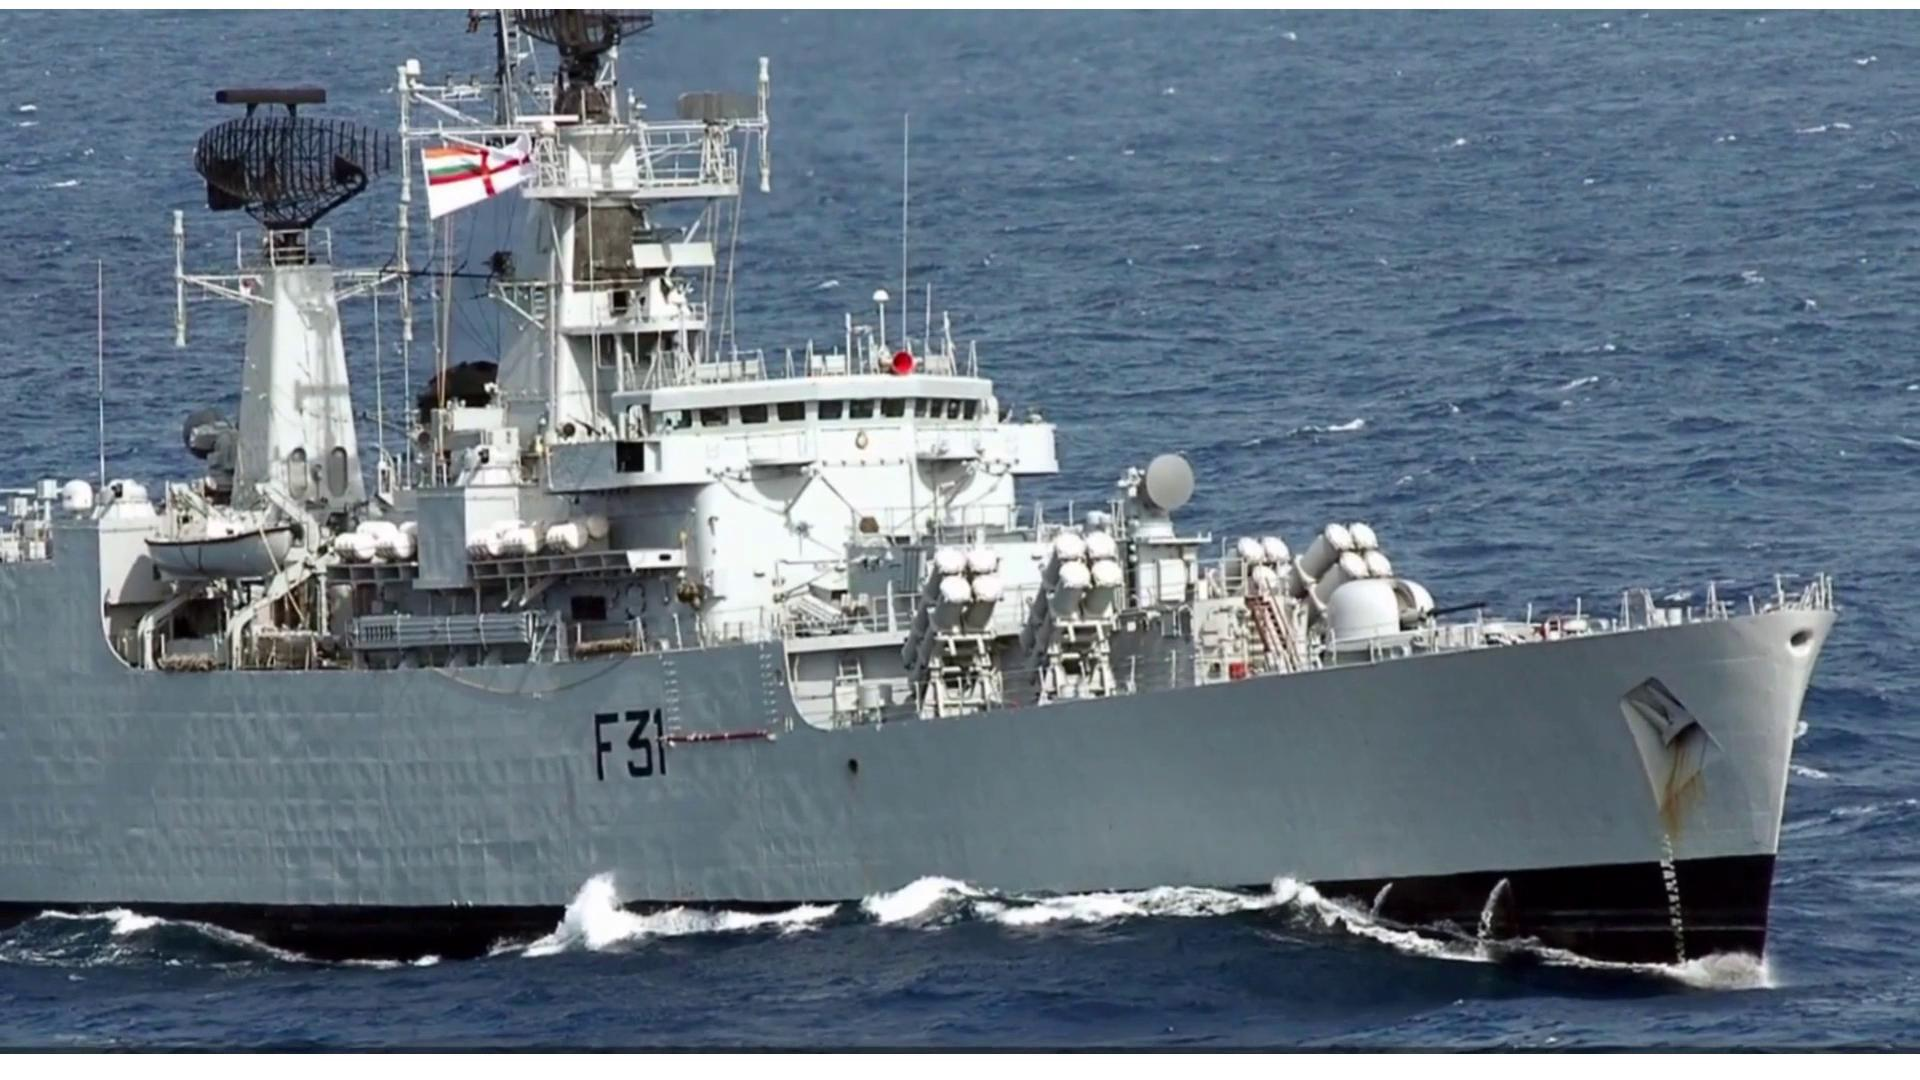OCR: (571, 690, 670, 790)
